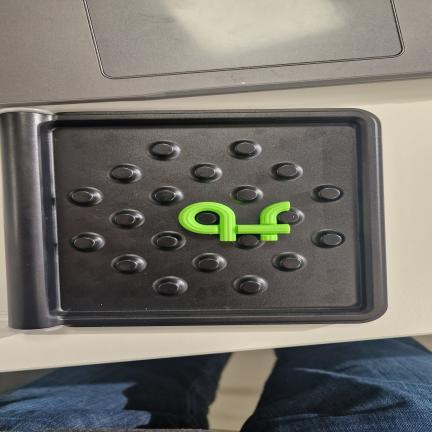K_YellowGreen: (179, 202, 290, 241)
board: (2, 110, 386, 329)
hinge: (0, 111, 54, 335)
pin: (152, 143, 174, 156), (318, 187, 340, 200), (277, 211, 299, 224), (320, 233, 342, 246), (235, 142, 256, 155), (115, 213, 136, 226), (240, 280, 261, 293), (276, 165, 298, 177), (112, 167, 134, 179), (73, 237, 95, 249), (156, 236, 178, 248), (280, 257, 302, 269), (158, 282, 180, 294), (195, 166, 216, 178), (72, 191, 93, 203), (155, 190, 176, 202), (196, 212, 217, 224), (198, 258, 219, 270), (116, 259, 137, 271), (237, 189, 257, 201), (238, 235, 259, 246)
